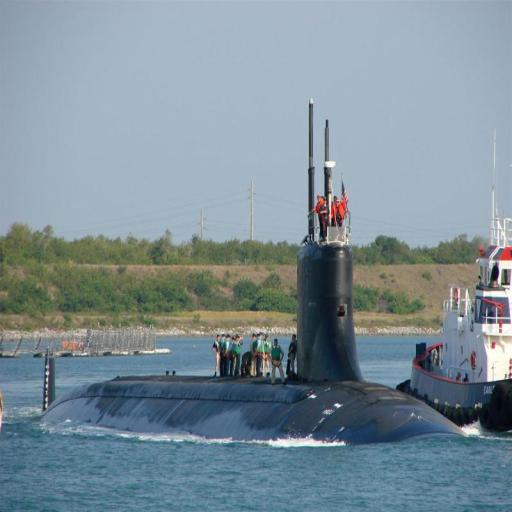submarine: (38, 90, 486, 427)
